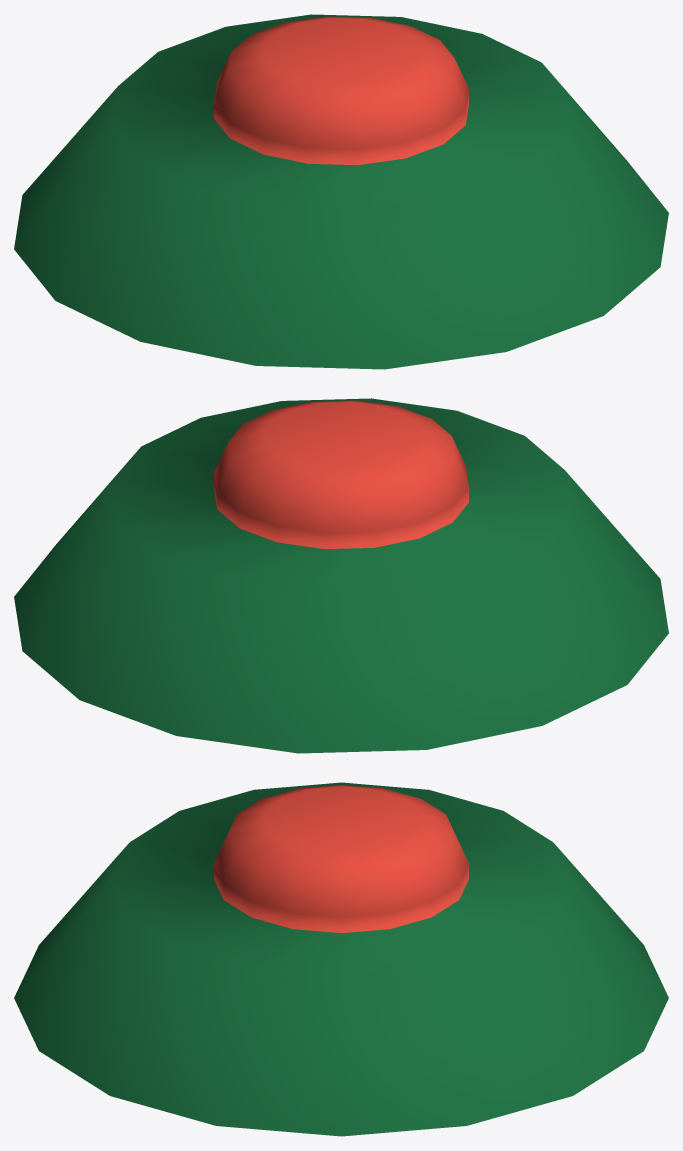
File: landmine.fbx
3 renders of one model, top to bottom at view 1: azimuth 30°, elevation 25°; view 2: azimuth 150°, elevation 25°; view 3: azimuth 270°, elevation 25°, orthographic.
Parts seen in each view (by area): view 1: landmine; view 2: landmine; view 3: landmine.
Part boxes in pixels (<box>): landmine: <box>14,14,668,369</box>; landmine: <box>14,398,668,753</box>; landmine: <box>14,782,668,1136</box>.
Size of the model in its own units: 200 by 60 by 200.
Materials: 2 (2 with a texture image).
